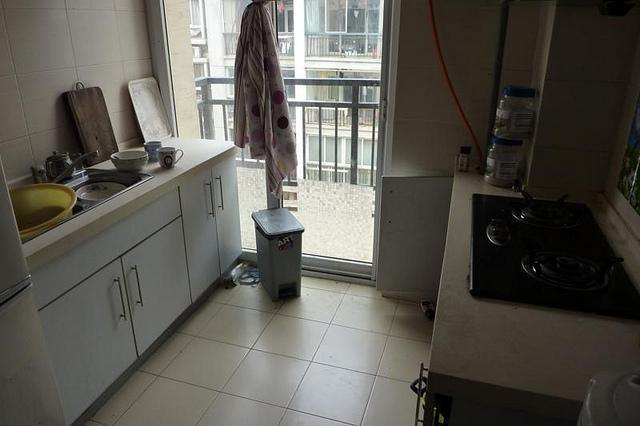Bote de Basura: (251, 205, 304, 298)
Lavaplatos: (0, 142, 159, 260)
